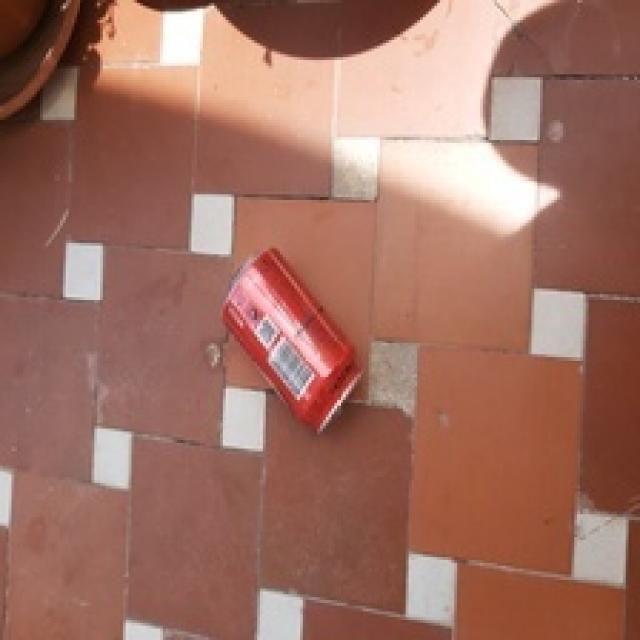recyclable: (222, 244, 364, 438)
